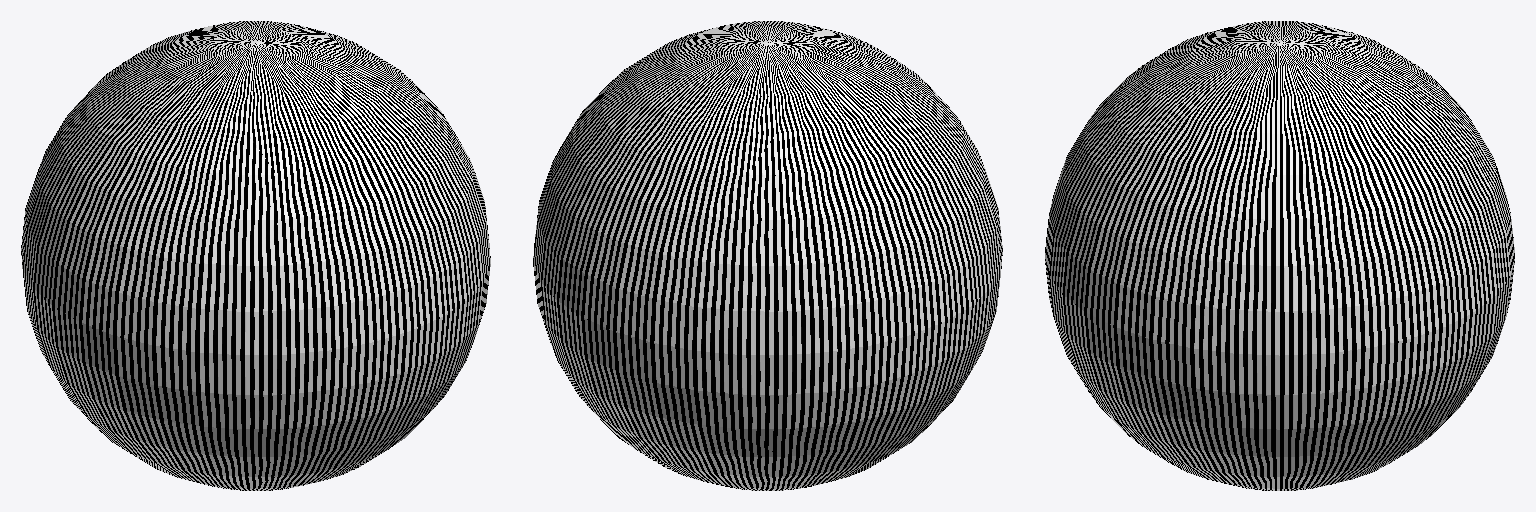
3 views of the same model, side by side, from view 1: azimuth 30°, elevation 25°; view 2: azimuth 150°, elevation 25°; view 3: azimuth 270°, elevation 25° (orthographic).
Parts seen in each view (by area): view 1: Sphere; view 2: Sphere; view 3: Sphere.
Boxes of the visible parts, x1=… form: Sphere: x1=21, y1=21, x2=490, y2=490; Sphere: x1=533, y1=21, x2=1002, y2=490; Sphere: x1=1045, y1=21, x2=1514, y2=490.
Size of the model in its own units: 2.77 by 2.77 by 2.77.
1 materials, 1 textured.